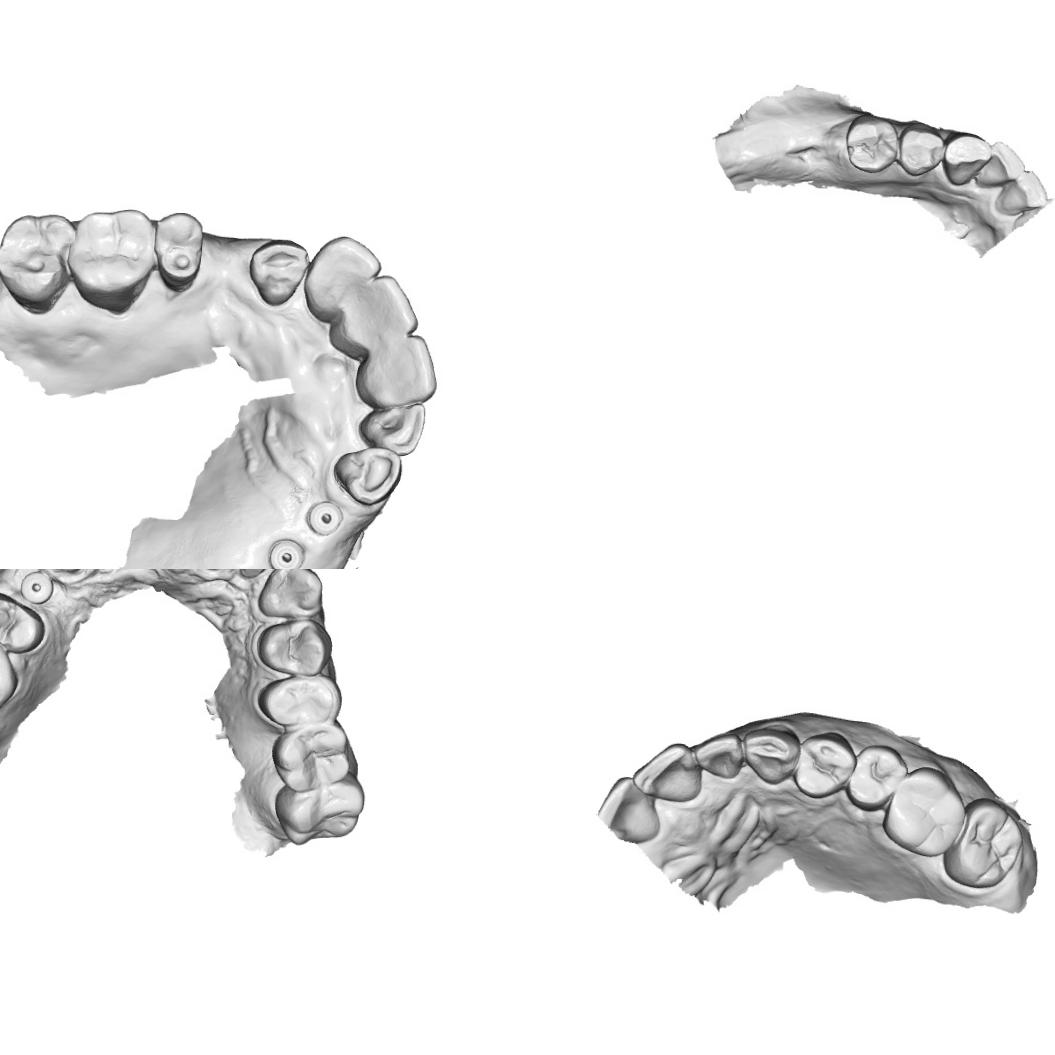canine: (331, 446, 404, 510), (246, 236, 308, 308), (254, 569, 327, 621), (740, 724, 799, 788), (941, 130, 993, 189)
crown: (237, 569, 278, 580)
implant: (18, 569, 57, 608), (306, 500, 346, 538), (266, 536, 306, 569)
incisor: (302, 233, 382, 319), (336, 272, 421, 352), (355, 330, 440, 406), (596, 775, 662, 843), (632, 740, 698, 804), (354, 400, 425, 456), (972, 138, 1027, 190), (994, 167, 1050, 216), (691, 732, 746, 778)
molar: (68, 208, 156, 310), (880, 764, 972, 861), (942, 793, 1025, 888), (0, 210, 73, 310), (272, 776, 367, 848), (270, 720, 354, 794), (0, 629, 20, 719)
premolar: (255, 672, 341, 730), (255, 618, 334, 676), (844, 742, 909, 812), (151, 209, 207, 290), (793, 731, 855, 800), (843, 112, 900, 176), (896, 118, 946, 179), (0, 590, 45, 655)
